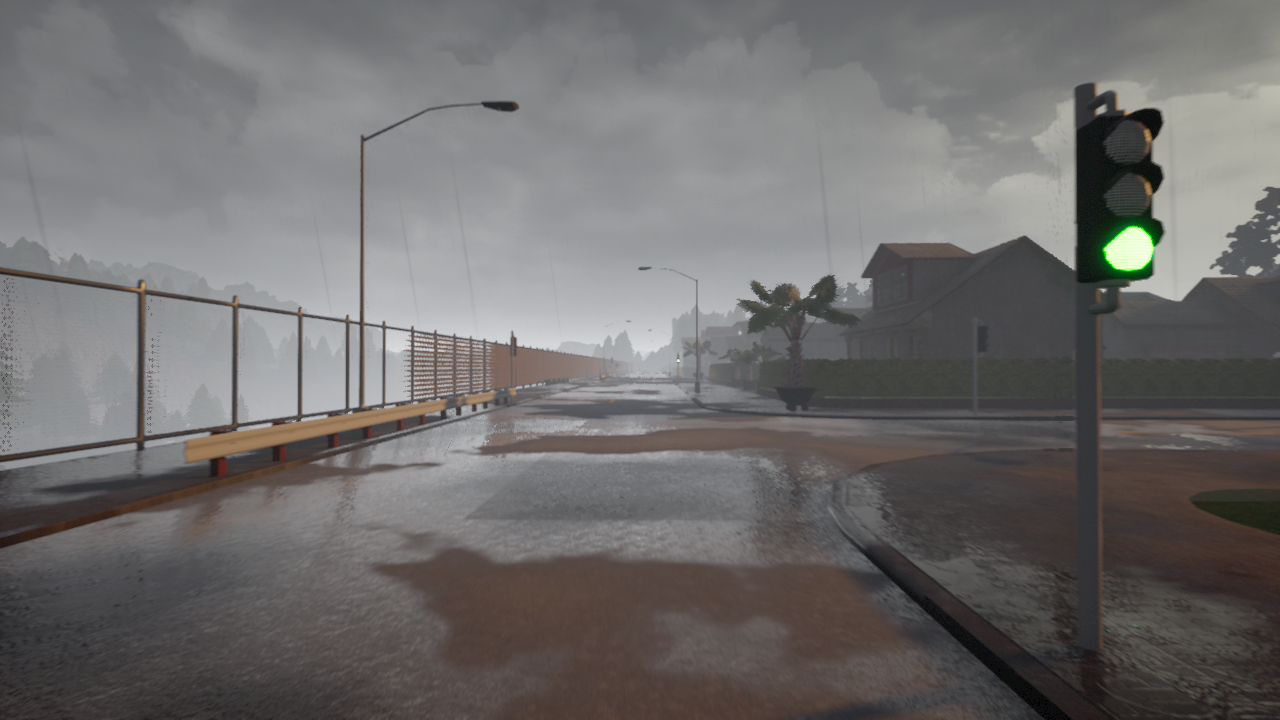green: (1079, 103, 1173, 289)
